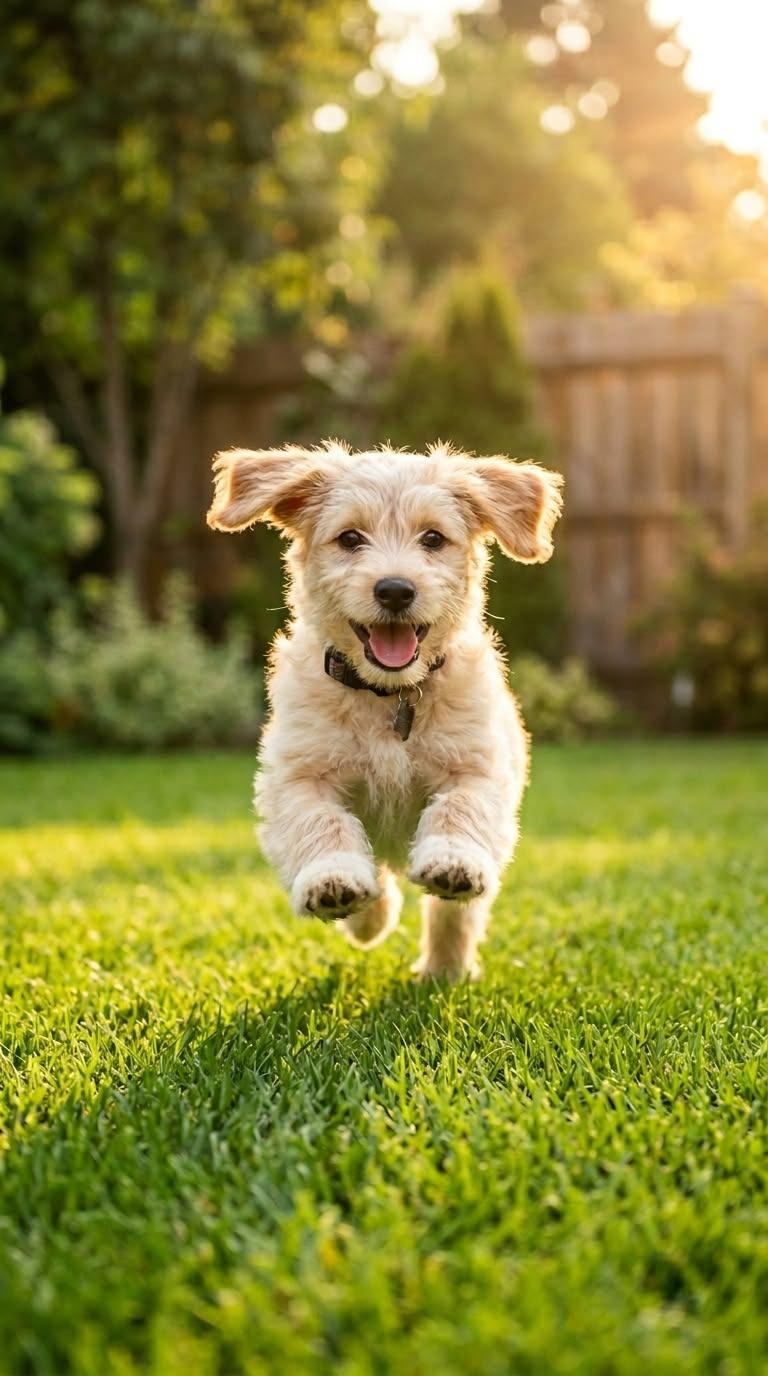puppy-dog: (207, 439, 565, 986)
